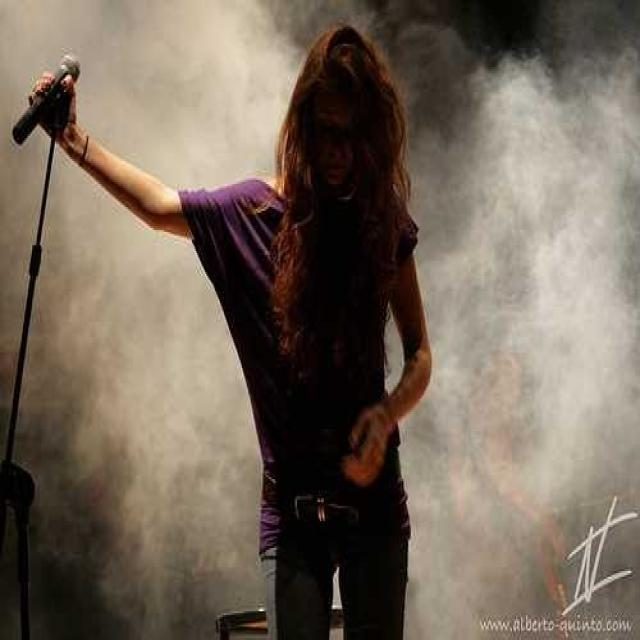microphone: (11, 55, 81, 148)
